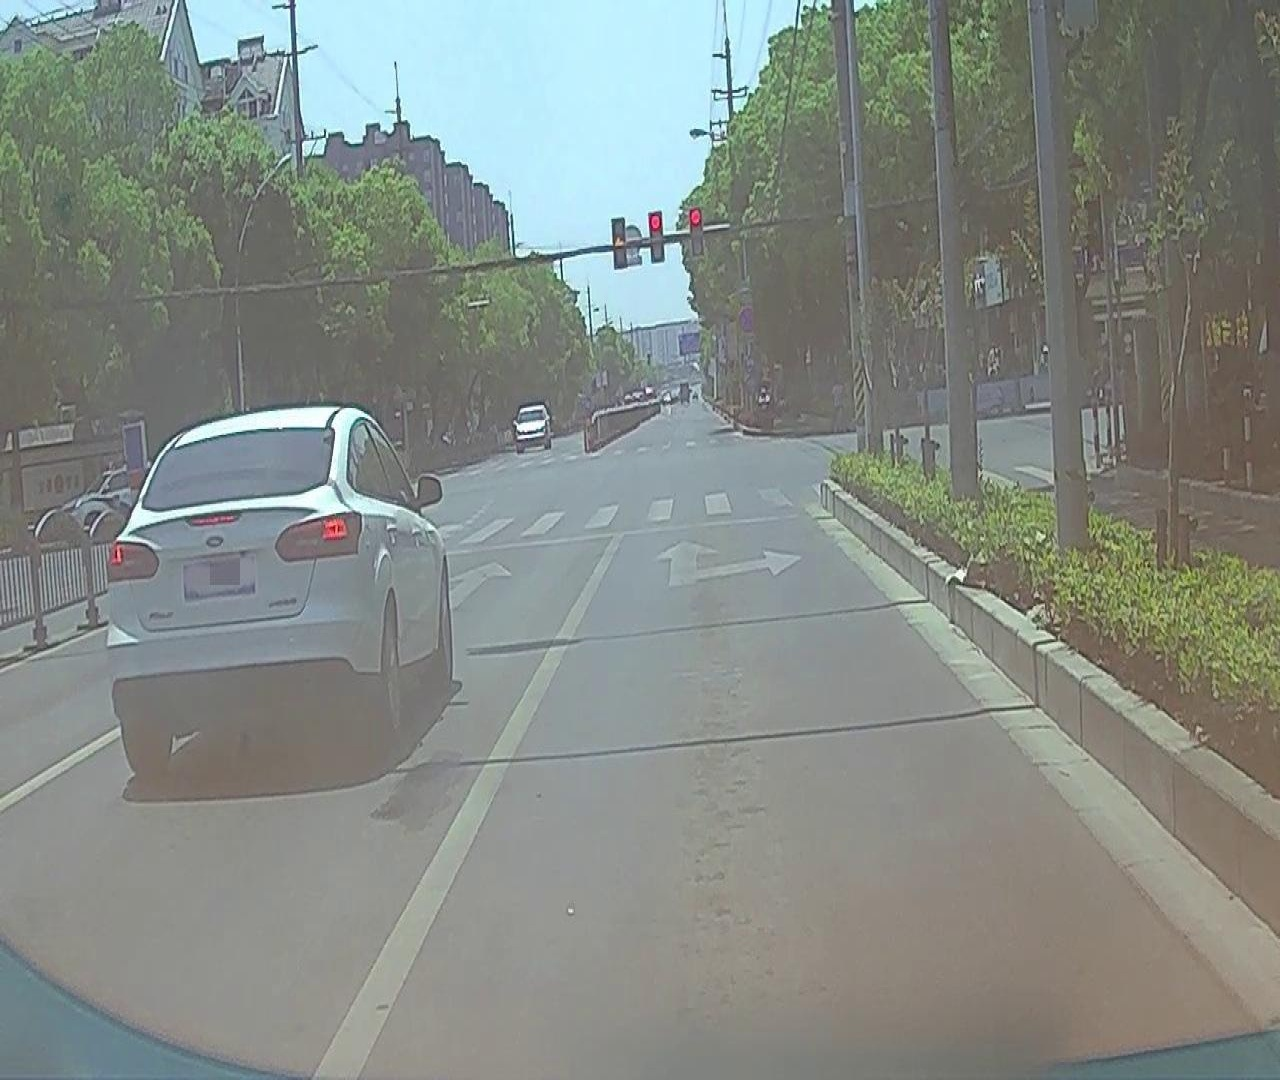red: (649, 211, 664, 262), (689, 208, 704, 256)
yellow: (611, 219, 627, 268)
